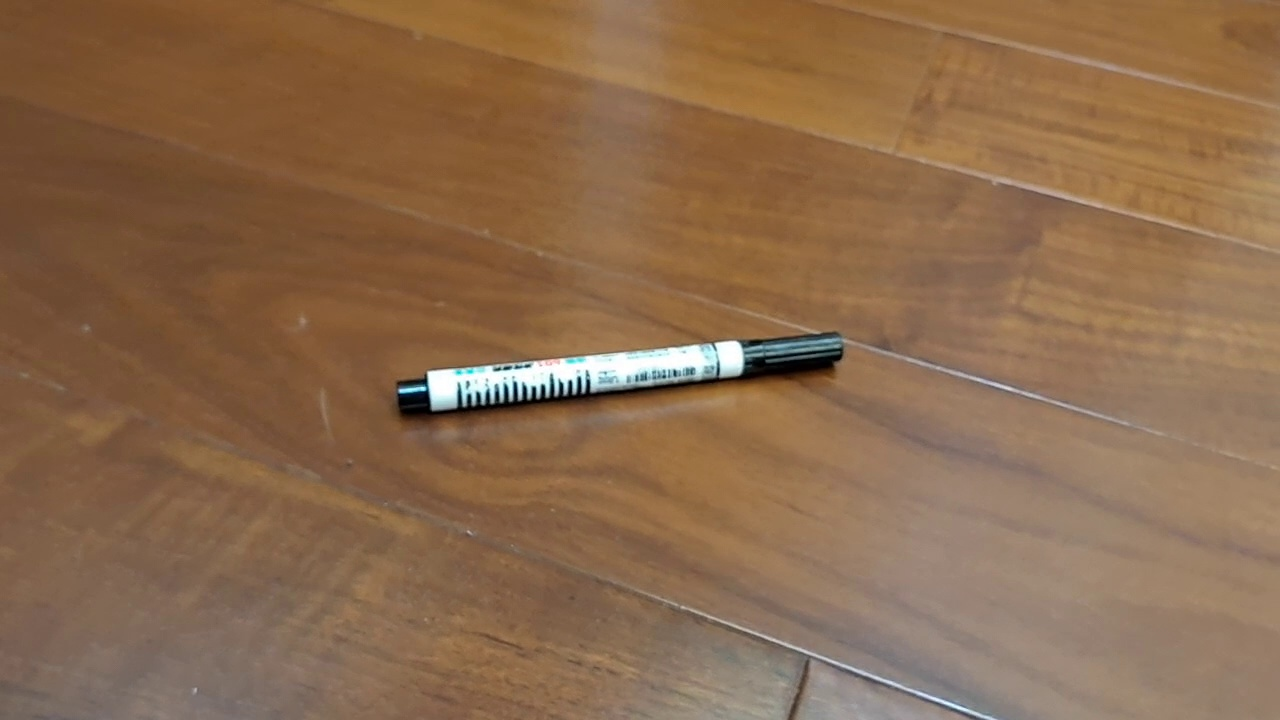pen: (396, 331, 845, 417)
